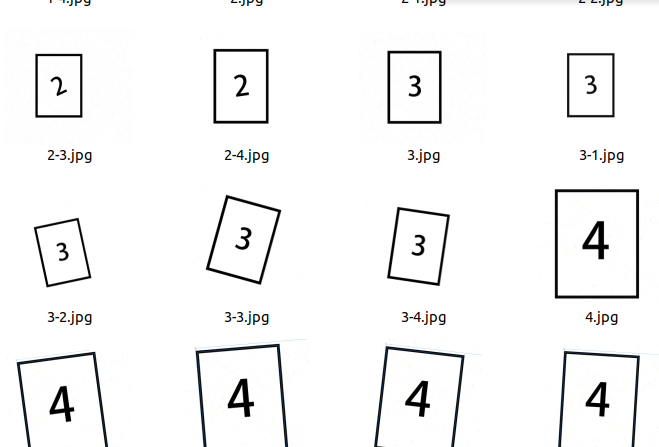four: (395, 363, 443, 438), (215, 370, 275, 428), (574, 211, 623, 281), (38, 375, 85, 437), (578, 370, 623, 432)
three: (396, 66, 434, 113), (226, 220, 263, 261), (402, 223, 433, 267), (47, 235, 80, 271), (578, 68, 605, 105)
two: (223, 65, 259, 105), (40, 64, 74, 106)
